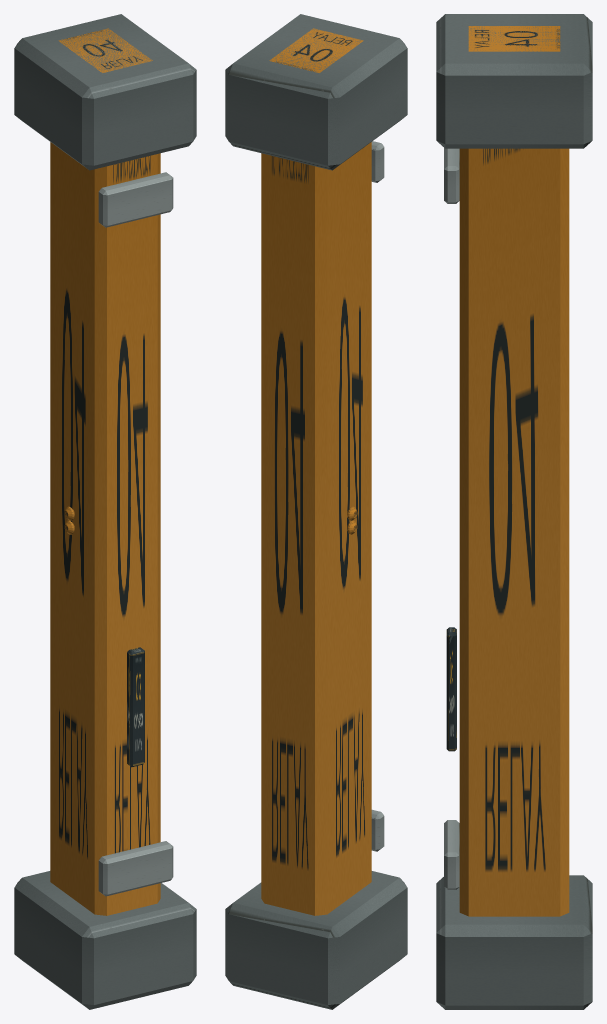
The model's file is column_4m_LOD0.obj.
3 renders of one model, left to right at view 1: azimuth 30°, elevation 25°; view 2: azimuth 150°, elevation 25°; view 3: azimuth 270°, elevation 25°, orthographic. The views are drawn at different scales.
Visible parts, largest first — view 1: L02_column_4m_LOD0; view 2: L02_column_4m_LOD0; view 3: L02_column_4m_LOD0.
Boxes of the visible parts, left/top/right/bottom form: L02_column_4m_LOD0: left=14, top=14, right=196, bottom=1009; L02_column_4m_LOD0: left=225, top=14, right=407, bottom=1009; L02_column_4m_LOD0: left=436, top=14, right=592, bottom=1009.
Size of the model in its own units: 0.52 by 4 by 0.6.
Materials: 1 (1 with a texture image).
